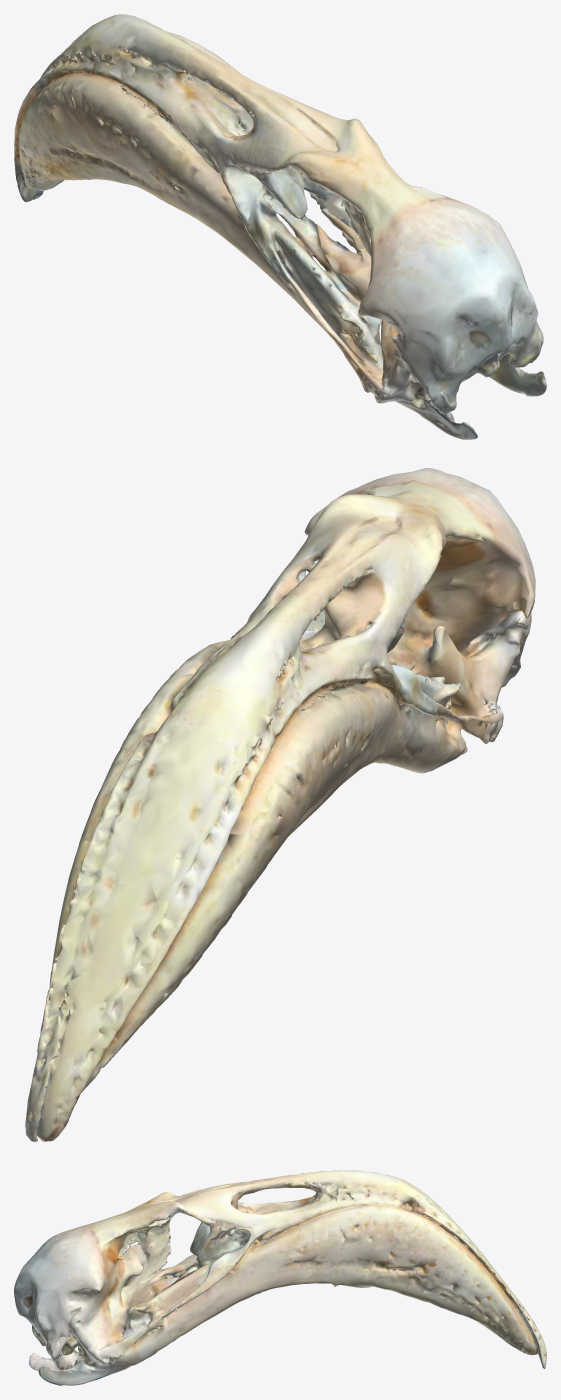
Rendered from flamenco.glb.
3 renders of one model, top to bottom at view 1: azimuth 30°, elevation 25°; view 2: azimuth 150°, elevation 25°; view 3: azimuth 270°, elevation 25°, orthographic. The views are drawn at different scales.
Parts seen in each view (by area): view 1: Object_2; view 2: Object_2; view 3: Object_2.
Part boxes in pixels (x1=…): Object_2: x1=14, y1=14, x2=546, y2=439; Object_2: x1=25, y1=468, x2=535, y2=1141; Object_2: x1=14, y1=1170, x2=546, y2=1385.
Size of the model in its own units: 51.83 by 62.48 by 159.
1 material, 1 textured.
